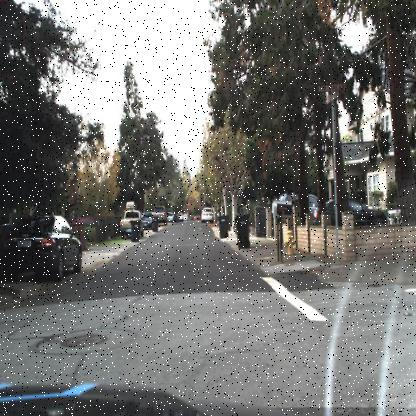car: (0, 207, 92, 281), (316, 197, 390, 225), (271, 191, 321, 219), (117, 207, 141, 240), (141, 208, 156, 232), (154, 204, 167, 228), (200, 204, 214, 223)
